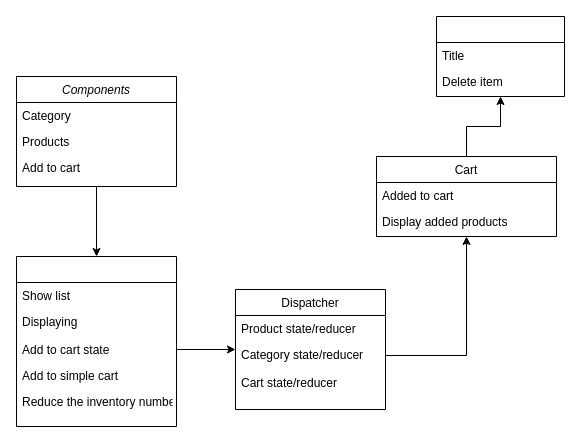
Image size: 581x443. Some labels were removed from this diagram. Here are the shapes that lost their labels. From the top down, the box of each, then its label:
(436, 16, 564, 96): Simple Cart
(16, 256, 176, 426): Action
